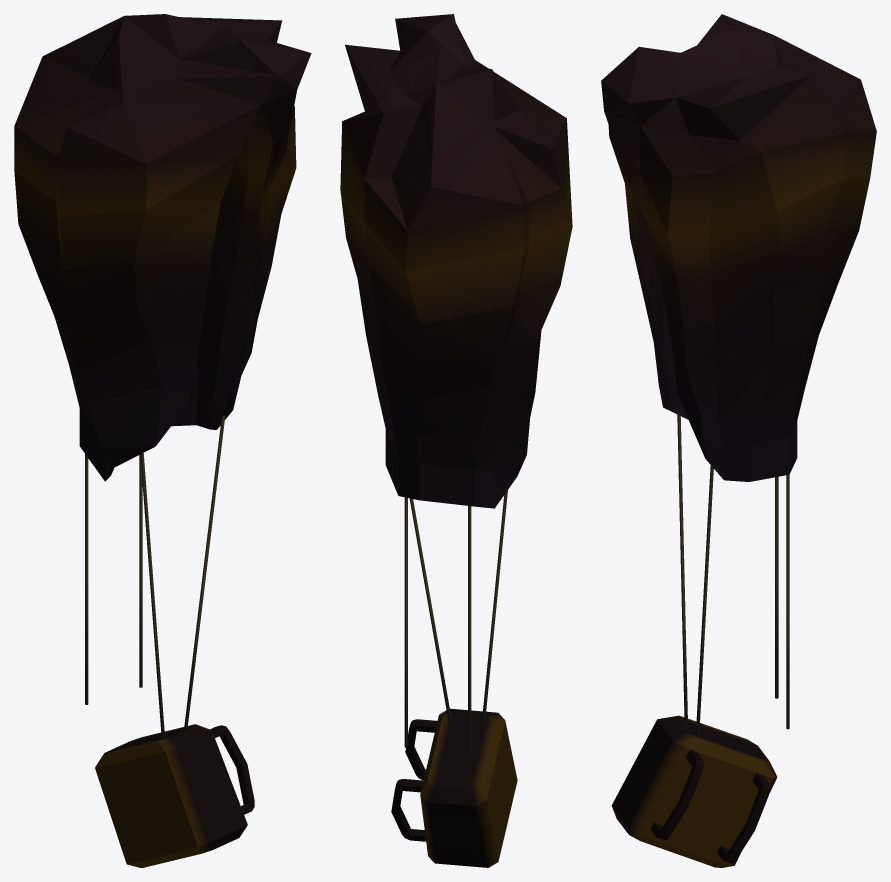
The model's file is parachute.fbx.
3 views of the same model, side by side, from view 1: azimuth 30°, elevation 25°; view 2: azimuth 150°, elevation 25°; view 3: azimuth 270°, elevation 25° (orthographic). The views are drawn at different scales.
Parts seen in each view (by area): view 1: parachute; view 2: parachute; view 3: parachute.
Boxes of the visible parts, box(x1,y1,x2,y2) form: parachute: box(14, 14, 311, 867); parachute: box(340, 14, 572, 867); parachute: box(601, 14, 876, 867).
Bounding box in the file's own units: 73.06 × 256 × 76.41.
